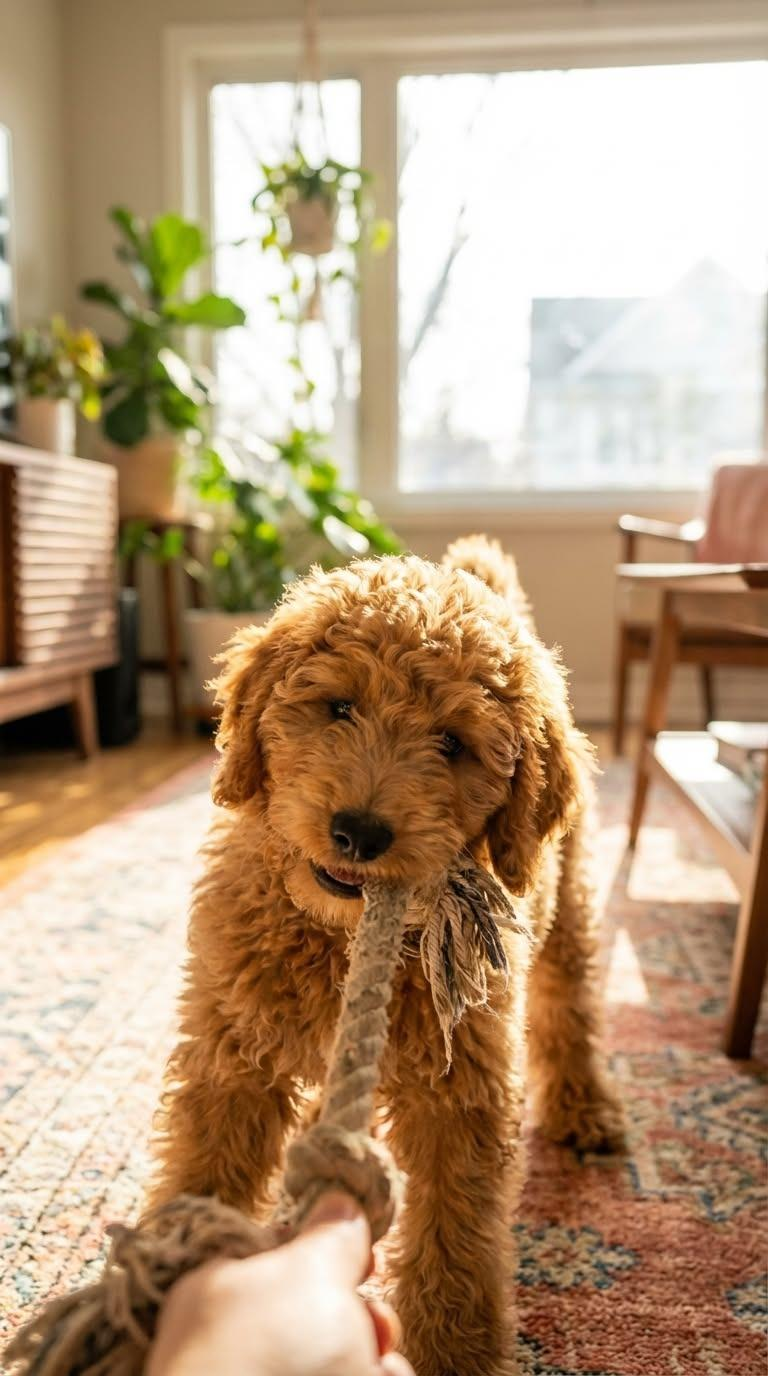puppy-dog: (134, 532, 609, 1376)
